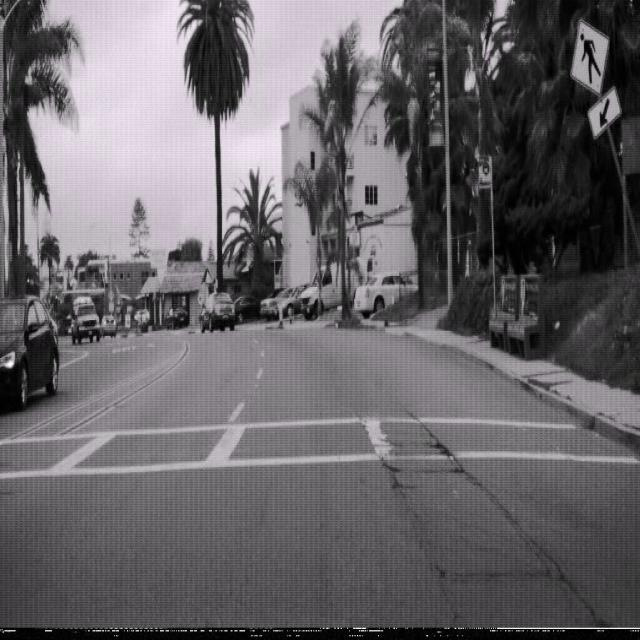pedestrianCrossing: (570, 17, 609, 96)
